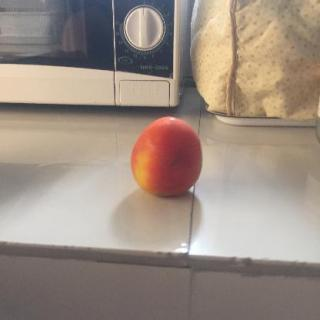Tomat: (120, 111, 216, 197)
